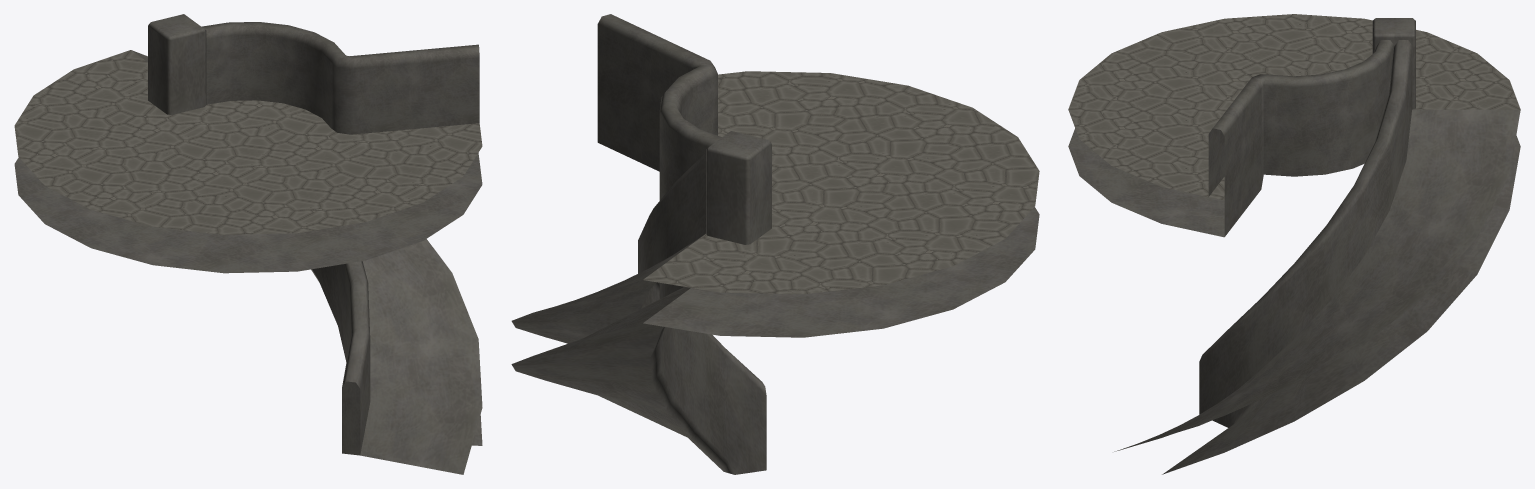
File: Tower_StairsCol.fbx
3 renders of one model, left to right at view 1: azimuth 30°, elevation 25°; view 2: azimuth 150°, elevation 25°; view 3: azimuth 270°, elevation 25°, orthographic. The views are drawn at different scales.
Visible parts, largest first — view 1: Tower_StairsCol; view 2: Tower_StairsCol; view 3: Tower_StairsCol.
Part boxes in pixels (x1,y1,x2,y2): Tower_StairsCol: (14,14,482,474); Tower_StairsCol: (511,14,1039,474); Tower_StairsCol: (1068,14,1520,474).
Size of the model in its own units: 50 by 44.23 by 50.
